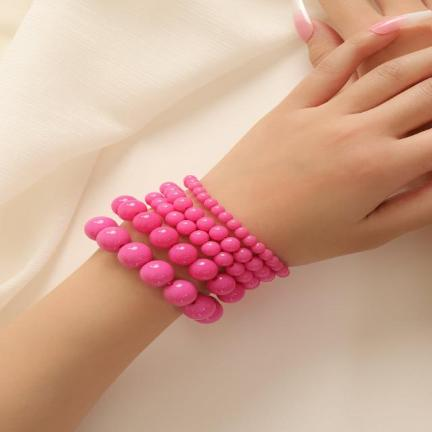Nail: (370, 10, 431, 35), (291, 0, 314, 43)
